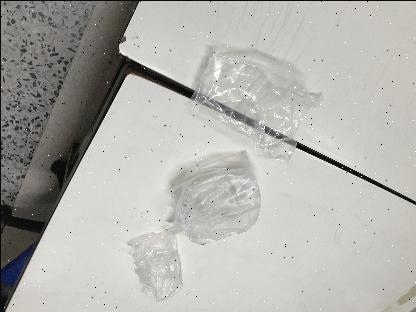Others: (186, 44, 317, 162), (166, 158, 270, 247), (123, 224, 183, 304)
